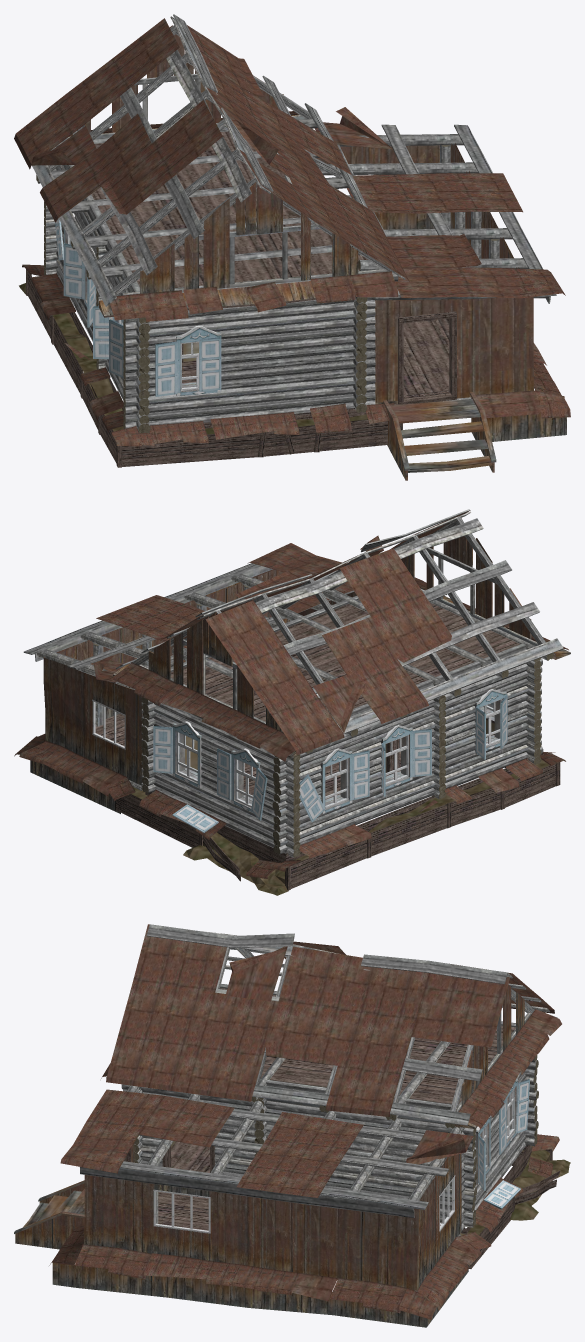
The model's file is house.fbx.
3 views of the same model, one above another, from view 1: azimuth 30°, elevation 25°; view 2: azimuth 150°, elevation 25°; view 3: azimuth 270°, elevation 25° (orthographic). The views are drawn at different scales.
Parts seen in each view (by area): view 1: house; view 2: house; view 3: house.
Boxes of the visible parts, x1,y1,x2,y2 form: house: (14, 14, 570, 480); house: (14, 509, 570, 895); house: (14, 924, 570, 1327).
Bounding box in the file's own units: 11.79 × 6.46 × 12.48.
Materials: 1 (1 with a texture image).
